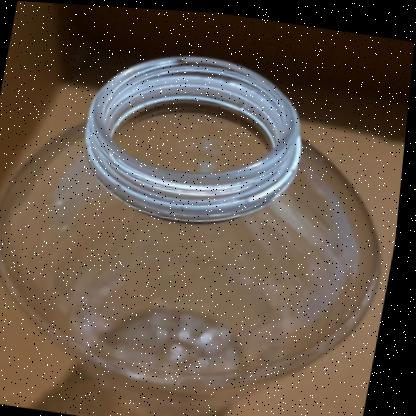open bottle: (1, 4, 416, 408)
